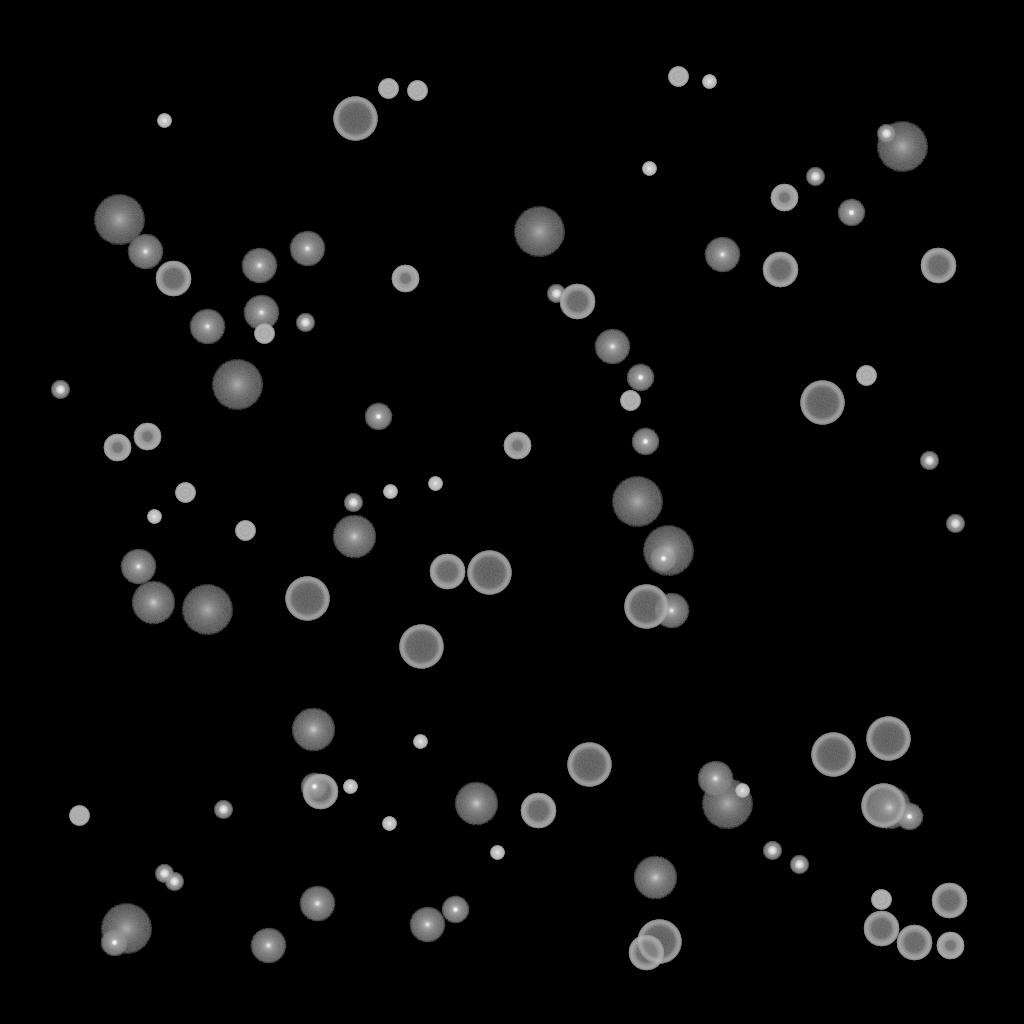depth:-10: (631, 428, 659, 456), (300, 773, 328, 801), (364, 403, 392, 431), (441, 896, 469, 924), (649, 545, 677, 573), (100, 929, 128, 957), (895, 803, 923, 831), (837, 199, 865, 227), (626, 364, 654, 392)
depth:-20: (165, 873, 183, 891), (806, 168, 824, 186), (296, 314, 314, 332), (790, 856, 808, 874), (51, 381, 69, 399), (344, 494, 362, 512), (877, 125, 895, 143), (920, 452, 938, 470), (155, 865, 173, 883), (214, 801, 232, 819), (946, 515, 964, 533), (547, 285, 565, 303), (763, 842, 781, 860)
depth:-30: (382, 817, 396, 831), (702, 75, 716, 89), (157, 114, 171, 128), (343, 780, 357, 794), (490, 846, 504, 860), (735, 784, 749, 798), (147, 510, 161, 524), (428, 477, 442, 491), (413, 735, 427, 749), (642, 162, 656, 176), (383, 485, 397, 499)
depth:-40: (254, 324, 274, 344), (620, 391, 640, 411), (69, 806, 89, 826), (668, 67, 688, 87), (407, 81, 427, 101), (871, 890, 891, 910), (378, 79, 398, 99), (856, 366, 876, 386), (175, 483, 195, 503), (235, 521, 255, 541)
depth:-50: (103, 434, 131, 462), (503, 432, 531, 460), (936, 932, 964, 960), (133, 423, 161, 451), (391, 265, 419, 293), (770, 184, 798, 212)
depth:-60: (628, 935, 664, 971), (155, 261, 191, 297), (896, 925, 932, 961), (931, 883, 967, 919), (762, 252, 798, 288), (520, 793, 556, 829), (429, 554, 465, 590), (302, 774, 338, 810), (920, 248, 956, 284), (559, 284, 595, 320), (863, 911, 899, 947)
depth:-70: (866, 717, 910, 761), (624, 585, 668, 629), (467, 551, 511, 595), (811, 733, 855, 777), (637, 920, 681, 964), (399, 625, 443, 669), (861, 784, 905, 828), (800, 381, 844, 425), (285, 577, 329, 621), (567, 743, 611, 787), (333, 97, 377, 141)
depth:0: (697, 761, 733, 797), (594, 329, 630, 365), (127, 234, 163, 270), (250, 928, 286, 964), (289, 231, 325, 267), (653, 593, 689, 629), (120, 549, 156, 585), (241, 248, 277, 284), (189, 309, 225, 345), (704, 237, 740, 273), (299, 886, 335, 922), (409, 907, 445, 943), (243, 295, 279, 331)
depth:10: (454, 782, 498, 826), (291, 708, 335, 752), (633, 856, 677, 900), (131, 581, 175, 625), (332, 515, 376, 559), (867, 786, 911, 830)
depth:20: (876, 122, 928, 172), (100, 904, 152, 954), (211, 360, 263, 410), (701, 779, 753, 829), (642, 526, 694, 576), (93, 195, 145, 245), (181, 585, 233, 635), (611, 477, 663, 527), (513, 207, 565, 257)
